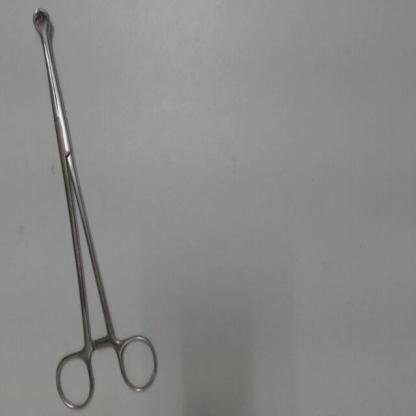8 Babcock Tissue Forceps: (27, 1, 164, 412)
